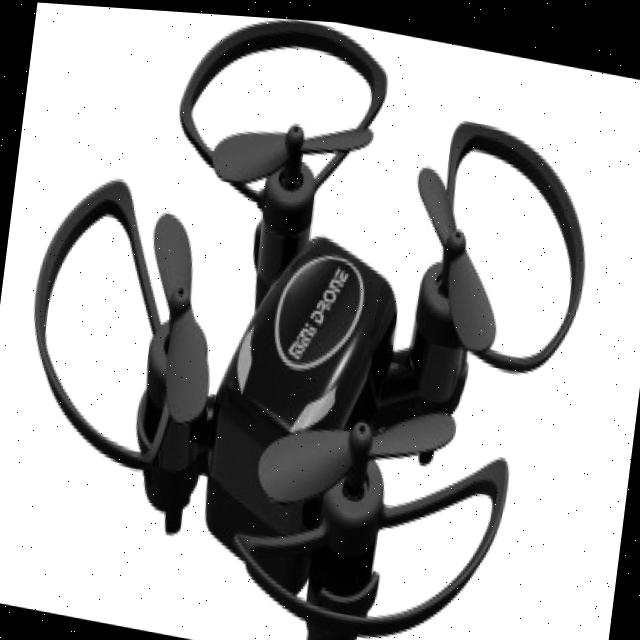drone: (16, 1, 617, 640)
